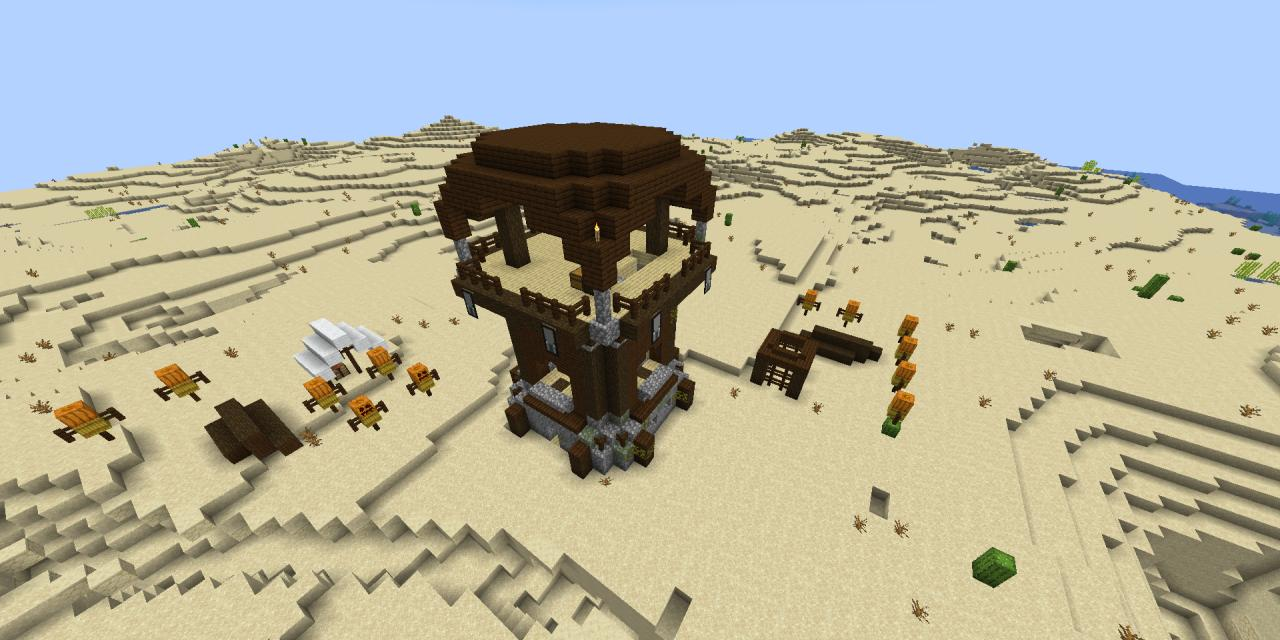pillager outpost: (432, 118, 722, 485)
